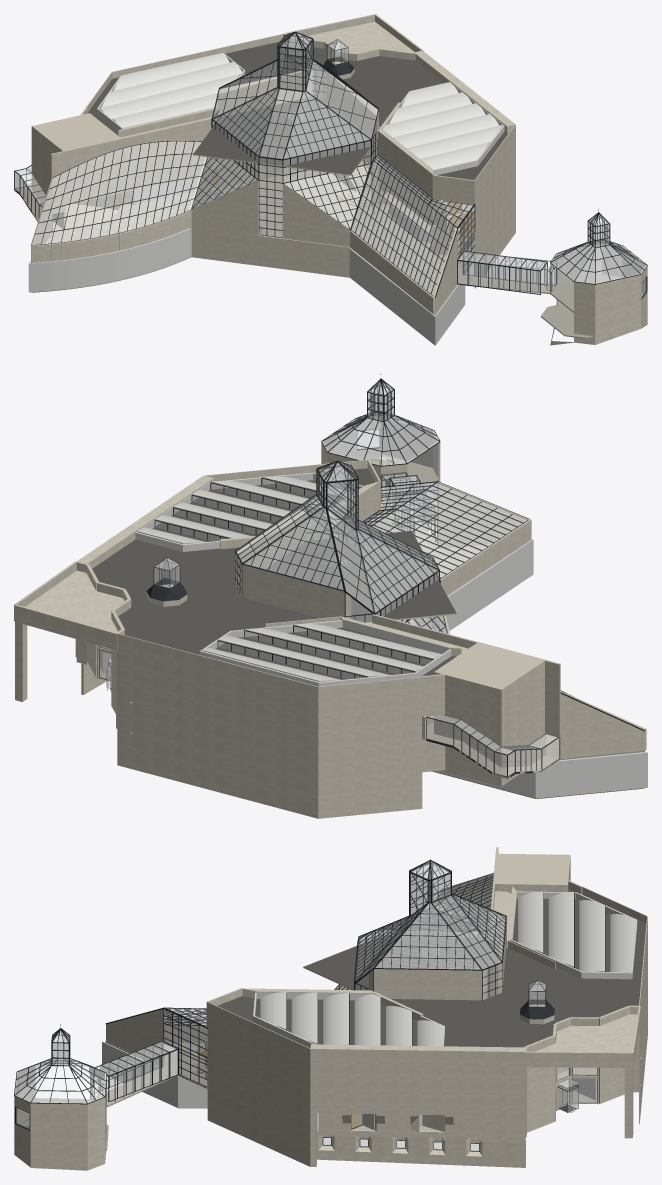
File: building.glb
3 views of the same model, one above another, from view 1: azimuth 30°, elevation 25°; view 2: azimuth 150°, elevation 25°; view 3: azimuth 270°, elevation 25° (orthographic). The views are drawn at different scales.
Visible parts, largest first — view 1: building/walls, building/glass, building/ceilings, building/frames, building/floors; view 2: building/walls, building/ceilings, building/glass, building/frames, building/floors; view 3: building/walls, building/ceilings, building/glass, building/frames, building/floors.
Part boxes in pixels (left/top/right/bottom): building/walls: left=28, top=33, right=647, bottom=345; building/glass: left=14, top=33, right=646, bottom=296; building/ceilings: left=31, top=14, right=646, bottom=282; building/frames: left=14, top=31, right=647, bottom=297; building/floors: left=14, top=161, right=647, bottom=344; building/walls: left=15, top=380, right=647, bottom=818; building/ceilings: left=14, top=374, right=641, bottom=760; building/glass: left=100, top=379, right=559, bottom=776; building/frames: left=99, top=379, right=644, bottom=778; building/floors: left=100, top=416, right=647, bottom=798; building/walls: left=14, top=847, right=647, bottom=1170; building/ceilings: left=15, top=853, right=647, bottom=1113; building/glass: left=15, top=861, right=637, bottom=1150; building/frames: left=14, top=859, right=605, bottom=1151; building/floors: left=14, top=909, right=641, bottom=1150.
Size of the model in its own units: 80.81 by 39.73 by 93.62.
Materials: 52 (10 with a texture image).
